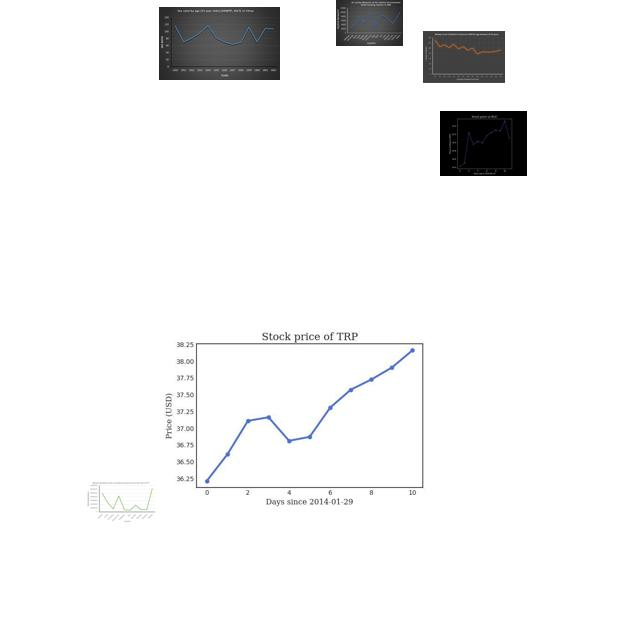Graph: (160, 305, 452, 524), (159, 7, 280, 80), (440, 111, 527, 176), (423, 31, 505, 83), (336, 0, 403, 46), (86, 481, 156, 523)
